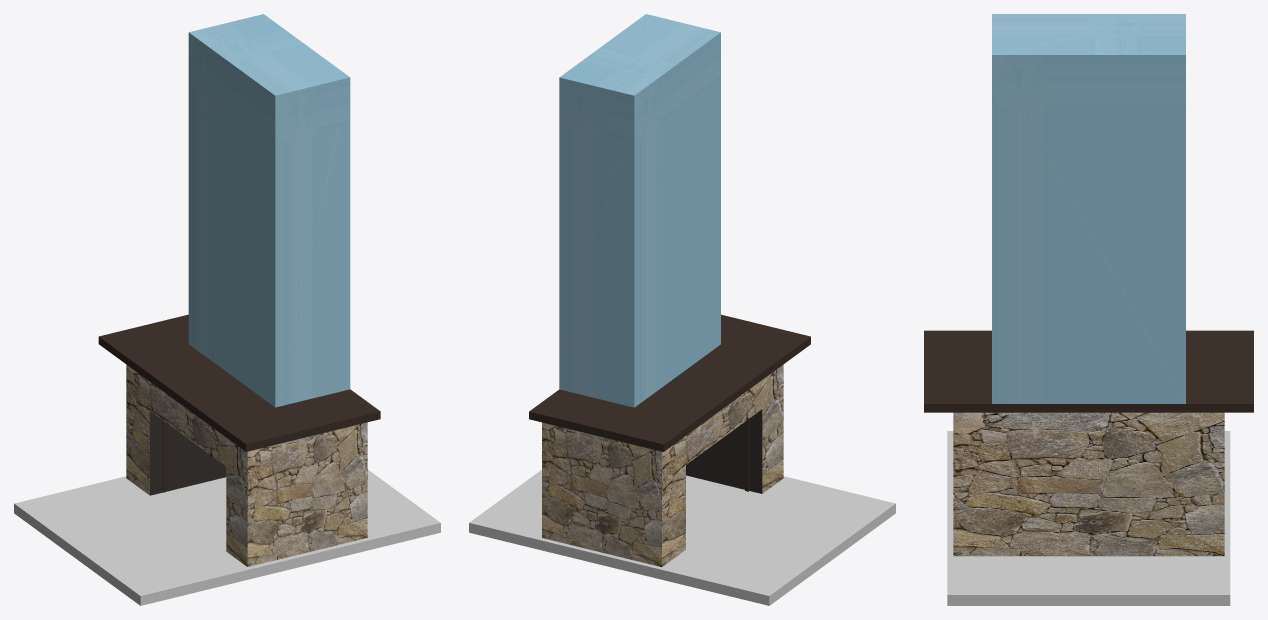
File: chimney2.glb
The picture shows the model from 3 angles, left to right: view 1: azimuth 30°, elevation 25°; view 2: azimuth 150°, elevation 25°; view 3: azimuth 270°, elevation 25°; orthographic projection. The views are drawn at different scales.
Visible parts, largest first — view 1: Casework 6 Casework 6 [271720], Cube, main_change, Casework 9 Casework 9 [273579], Object004; view 2: Casework 6 Casework 6 [271720], Cube, main_change, Casework 9 Casework 9 [273579], Object004; view 3: Casework 6 Casework 6 [271720], main_change, Cube, Casework 9 Casework 9 [273579].
Boxes of the visible parts, <box> form: Casework 6 Casework 6 [271720]: <box>188,14,350,407</box>; Cube: <box>14,469,440,605</box>; main_change: <box>126,364,367,566</box>; Casework 9 Casework 9 [273579]: <box>98,314,380,451</box>; Object004: <box>150,411,226,495</box>; Casework 6 Casework 6 [271720]: <box>559,14,720,407</box>; Cube: <box>469,470,895,605</box>; main_change: <box>542,364,783,566</box>; Casework 9 Casework 9 [273579]: <box>529,314,810,451</box>; Object004: <box>686,409,762,493</box>; Casework 6 Casework 6 [271720]: <box>992,14,1185,403</box>; main_change: <box>953,412,1224,556</box>; Cube: <box>947,431,1230,605</box>; Casework 9 Casework 9 [273579]: <box>924,330,1253,412</box>.
Size of the model in its own units: 2 by 2.91 by 1.7.
6 materials, 2 textured.
